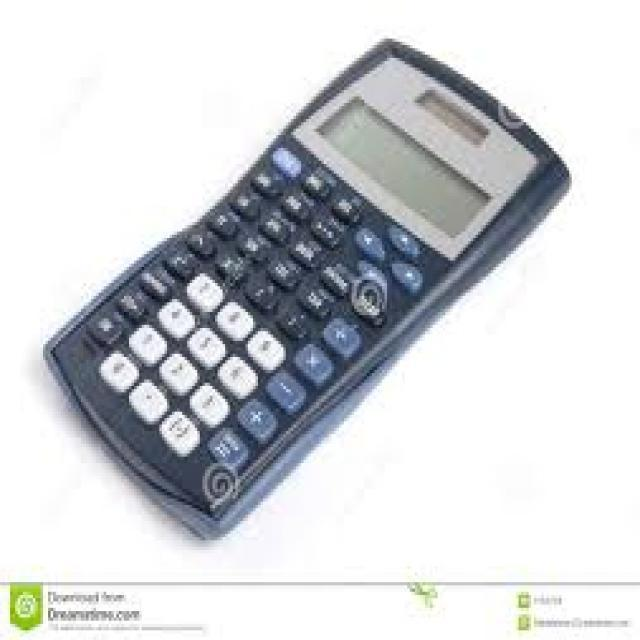Calculator: (42, 29, 573, 544)
